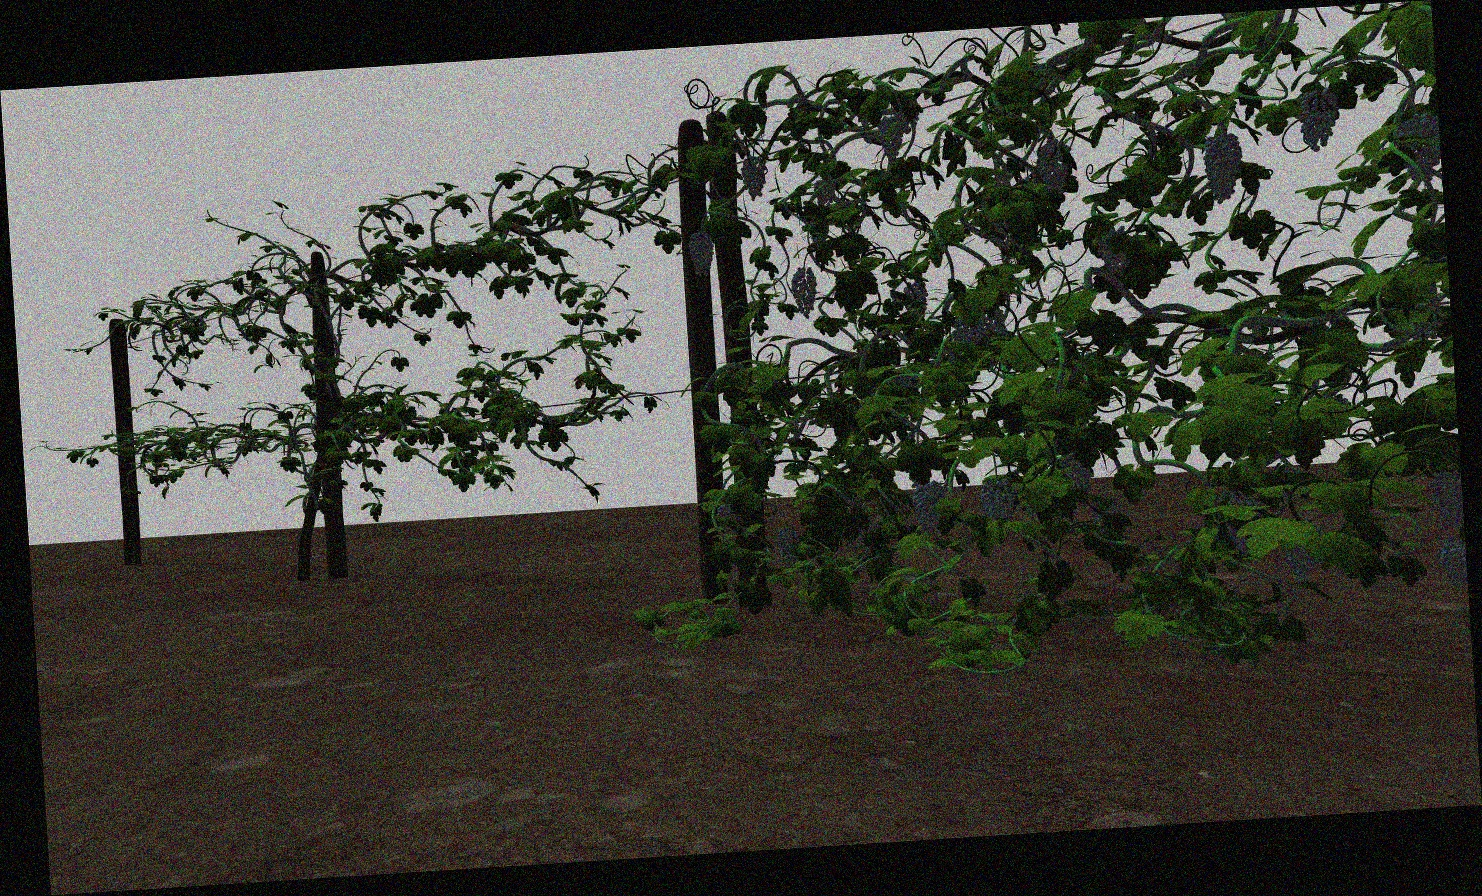grape: (1298, 85, 1341, 153), (1203, 132, 1243, 204), (1398, 114, 1438, 180), (912, 479, 951, 538), (1036, 139, 1070, 197), (980, 474, 1018, 524), (1429, 472, 1460, 528), (1098, 227, 1129, 276), (876, 114, 911, 159), (792, 264, 819, 319), (687, 230, 715, 279), (1439, 537, 1464, 589), (952, 317, 992, 347), (1286, 545, 1318, 584), (741, 157, 767, 202), (1062, 456, 1094, 490), (777, 527, 802, 565), (717, 503, 740, 540), (903, 280, 929, 305)
